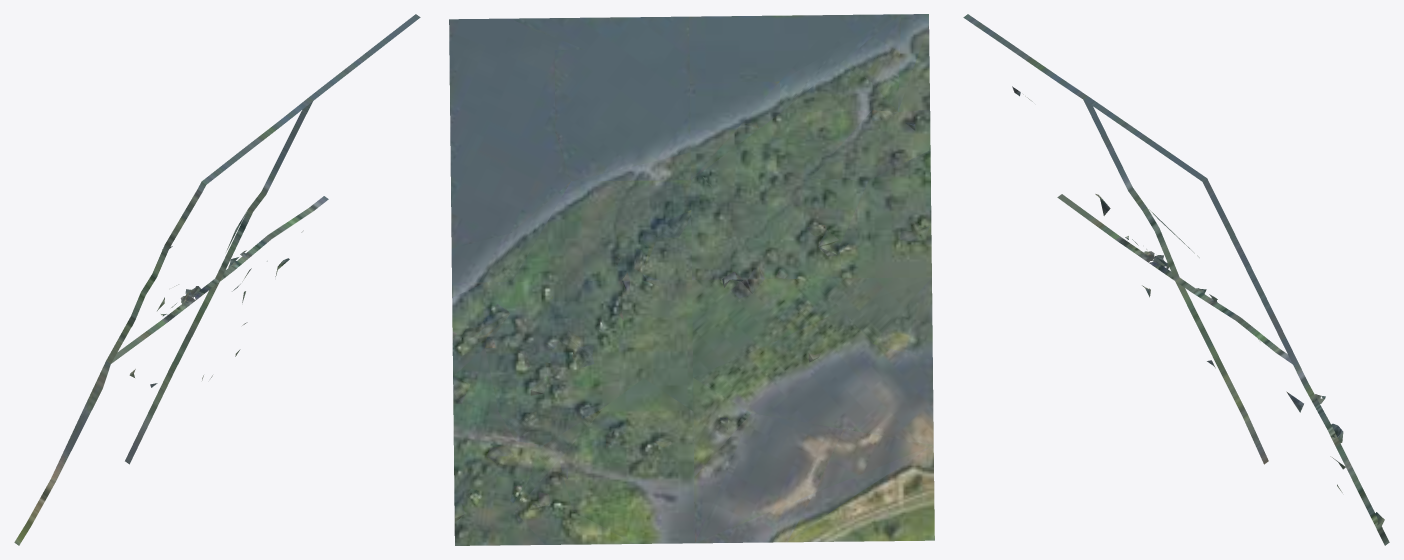
3 renders of one model, left to right at view 1: azimuth 30°, elevation 25°; view 2: azimuth 150°, elevation 25°; view 3: azimuth 270°, elevation 25°, orthographic. The views are drawn at different scales.
Bounding box in the file's own units: 613 × 555 × 517.
1 material, 1 textured.
